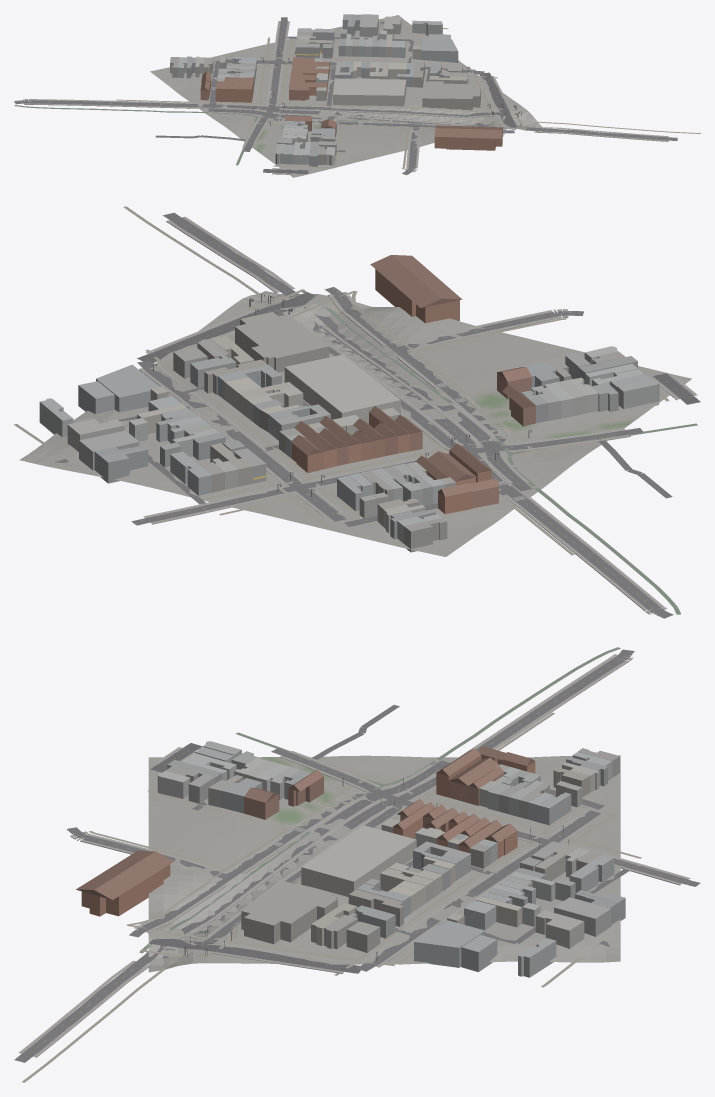
Rendered from tile_-5_-7.glb.
3 renders of one model, top to bottom at view 1: azimuth 30°, elevation 25°; view 2: azimuth 150°, elevation 25°; view 3: azimuth 270°, elevation 25°, orthographic. The views are drawn at different scales.
Parts seen in each view (by area): view 1: buildings, terrain, roads, sidewalks, paths; view 2: buildings, terrain, roads, sidewalks, paths; view 3: buildings, terrain, roads, sidewalks, paths.
Boxes of the visible parts, x1,y1,x2,y2 form: buildings: (170, 14, 503, 166); terrain: (150, 15, 541, 177); roads: (14, 17, 677, 175); sidewalks: (23, 21, 668, 174); paths: (14, 24, 700, 169); buildings: (39, 255, 659, 552); terrain: (19, 291, 691, 556); roads: (54, 212, 700, 618); sidewalks: (139, 216, 697, 614); paths: (14, 206, 697, 614); buildings: (76, 741, 625, 977); terrain: (148, 755, 620, 972); roads: (14, 649, 700, 1062); sidewalks: (18, 654, 690, 1057); paths: (22, 647, 641, 1082).
Size of the model in its own units: 521 by 33.39 by 373.
